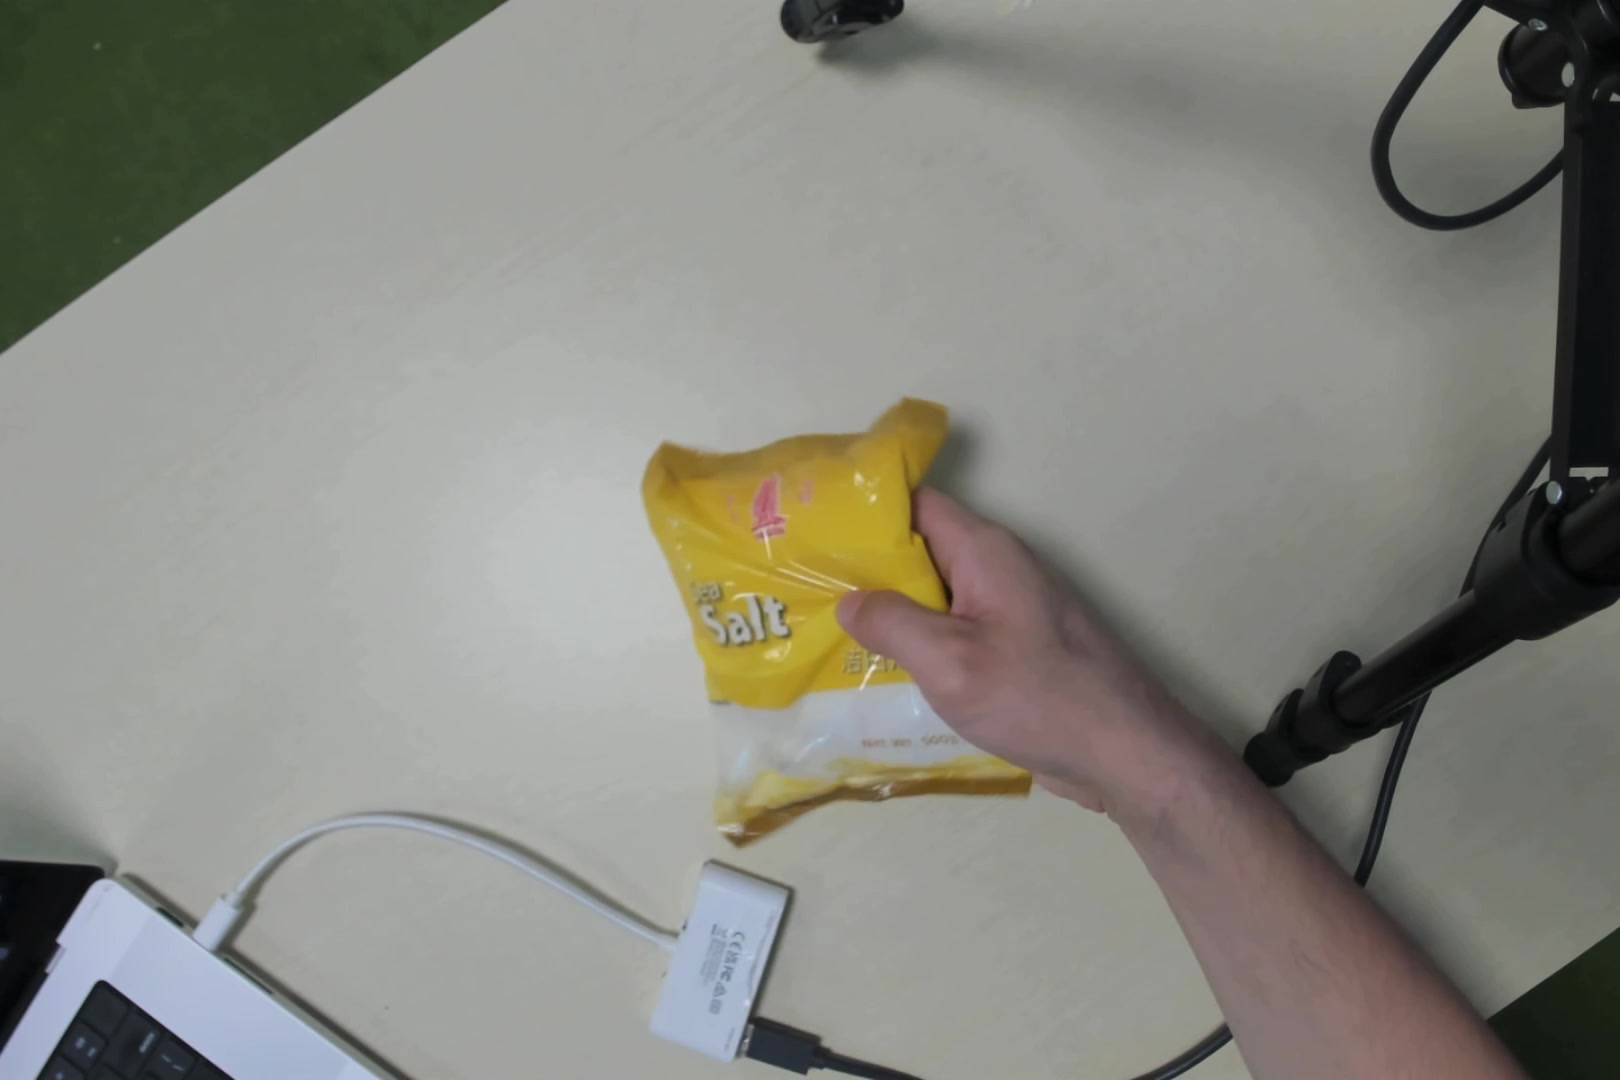Salt_500-599g_Halal_NonHealthy: (650, 428, 1008, 808)
